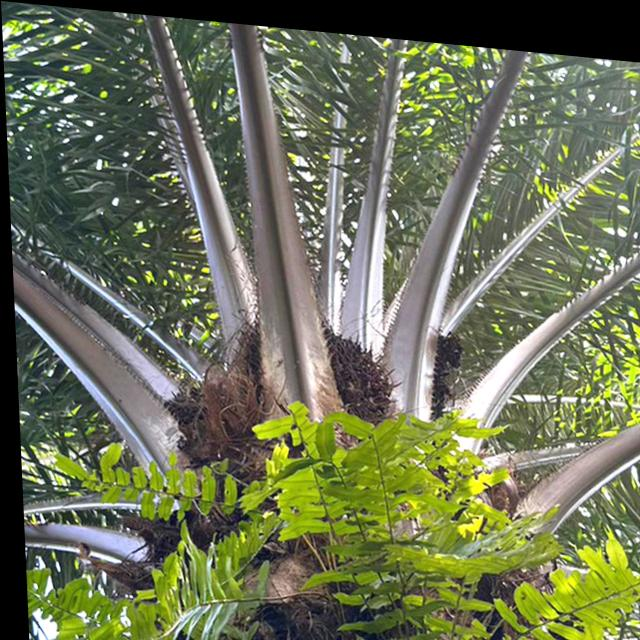ripe: (211, 290, 397, 428)
